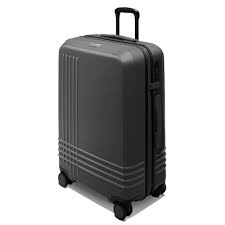suitcase: (54, 7, 170, 220)
